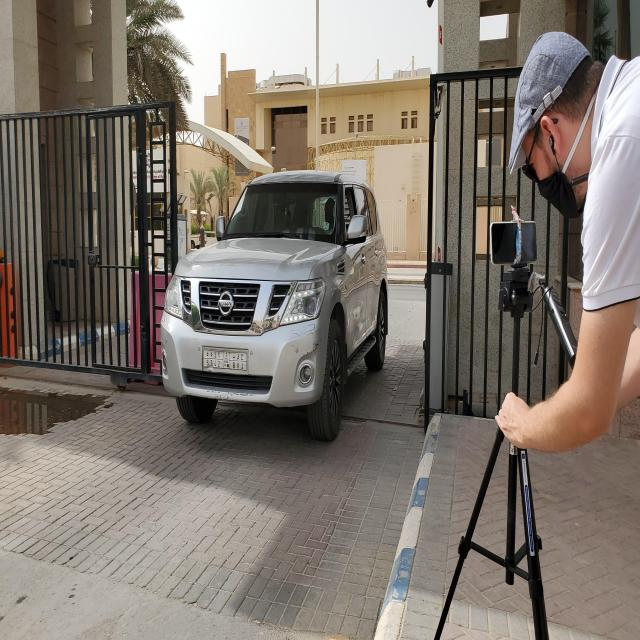license_plate: (202, 348, 248, 370)
